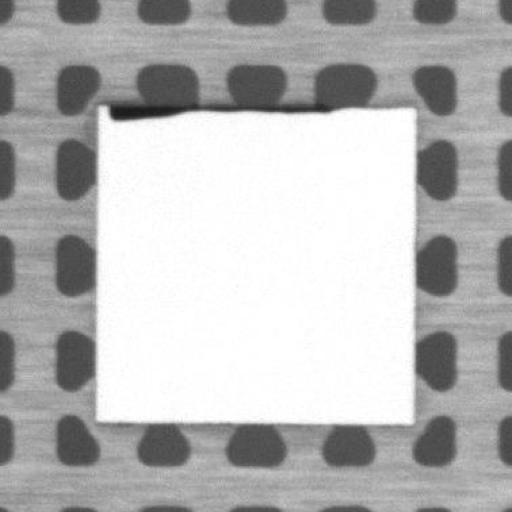DIE_BROKEN: (102, 94, 359, 122)
